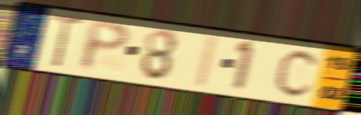1: (231, 39, 257, 93)
8: (140, 28, 180, 82)
C: (272, 47, 322, 99)
I: (191, 33, 222, 90)
P: (78, 19, 133, 74)
T: (49, 12, 87, 70)
